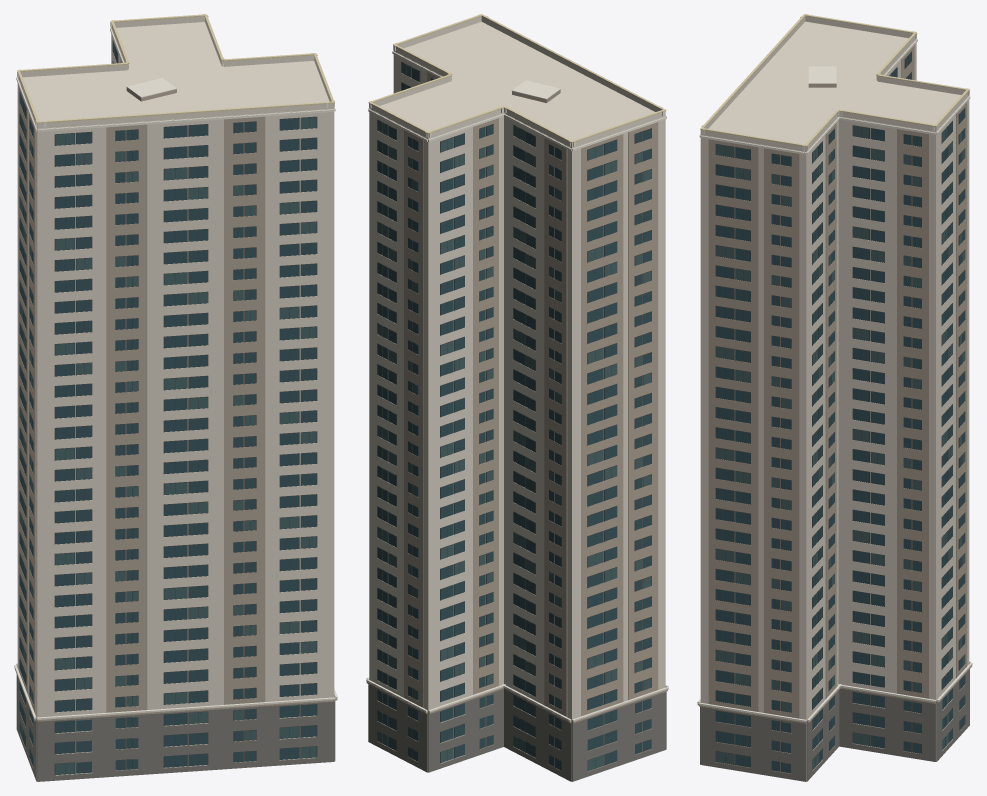
Rendered from bespoke-raemian-prestige-114.glb.
3 renders of one model, left to right at view 1: azimuth 30°, elevation 25°; view 2: azimuth 150°, elevation 25°; view 3: azimuth 270°, elevation 25°, orthographic. The views are drawn at different scales.
Parts seen in each view (by area): view 1: Prestige_warm_ivory_rendered_wall, Prestige_recessed_blue_green_window, Prestige_wide_taupe_pilasters, Prestige_dark_bronze_thin_window_frame, Prestige_dark_brown_grey_stone_base, Prestige_muted_green_window_pair, Prestige_pale_limestone_band, Prestige_cream_gold_crown_coping; view 2: Prestige_warm_ivory_rendered_wall, Prestige_wide_taupe_pilasters, Prestige_recessed_blue_green_window, Prestige_dark_bronze_thin_window_frame, Prestige_dark_brown_grey_stone_base, Prestige_muted_green_window_pair, Prestige_pale_limestone_band, Prestige_cream_gold_crown_coping; view 3: Prestige_warm_ivory_rendered_wall, Prestige_wide_taupe_pilasters, Prestige_recessed_blue_green_window, Prestige_dark_bronze_thin_window_frame, Prestige_dark_brown_grey_stone_base, Prestige_muted_green_window_pair, Prestige_pale_limestone_band, Prestige_cream_gold_crown_coping.
Boxes of the visible parts, bbox=[...] form: Prestige_warm_ivory_rendered_wall: bbox=[17, 16, 334, 775]; Prestige_recessed_blue_green_window: bbox=[19, 49, 316, 773]; Prestige_wide_taupe_pilasters: bbox=[14, 58, 337, 770]; Prestige_dark_bronze_thin_window_frame: bbox=[19, 40, 317, 775]; Prestige_dark_brown_grey_stone_base: bbox=[16, 667, 335, 781]; Prestige_muted_green_window_pair: bbox=[19, 41, 316, 774]; Prestige_pale_limestone_band: bbox=[14, 17, 337, 719]; Prestige_cream_gold_crown_coping: bbox=[17, 14, 334, 123]; Prestige_warm_ivory_rendered_wall: bbox=[369, 16, 665, 781]; Prestige_wide_taupe_pilasters: bbox=[366, 72, 668, 771]; Prestige_recessed_blue_green_window: bbox=[377, 68, 651, 770]; Prestige_dark_bronze_thin_window_frame: bbox=[377, 61, 651, 770]; Prestige_dark_brown_grey_stone_base: bbox=[368, 684, 666, 781]; Prestige_muted_green_window_pair: bbox=[377, 62, 651, 770]; Prestige_pale_limestone_band: bbox=[366, 46, 668, 721]; Prestige_cream_gold_crown_coping: bbox=[368, 14, 666, 143]; Prestige_warm_ivory_rendered_wall: bbox=[700, 16, 969, 781]; Prestige_wide_taupe_pilasters: bbox=[697, 45, 972, 773]; Prestige_recessed_blue_green_window: bbox=[716, 52, 965, 773]; Prestige_dark_bronze_thin_window_frame: bbox=[715, 51, 965, 771]; Prestige_dark_brown_grey_stone_base: bbox=[700, 669, 969, 781]; Prestige_muted_green_window_pair: bbox=[716, 74, 965, 769]; Prestige_pale_limestone_band: bbox=[697, 34, 972, 721]; Prestige_cream_gold_crown_coping: bbox=[700, 14, 969, 146].
Size of the model in its own units: 39.74 by 87.7 by 34.39.
